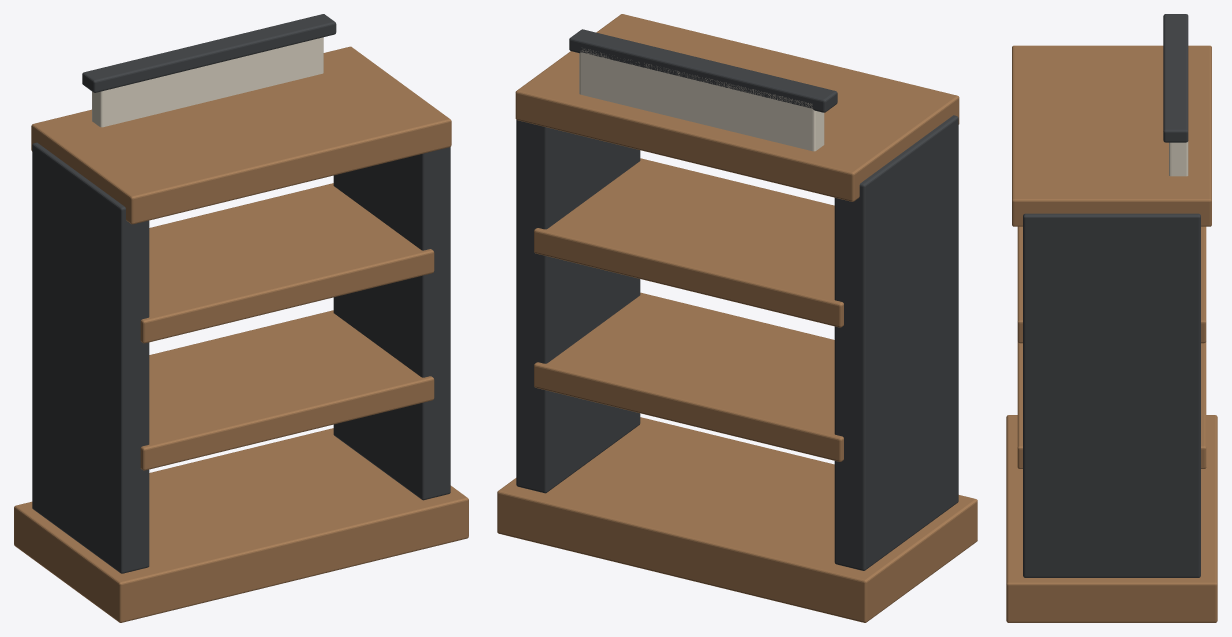
Rendered from retail-counter-display-01.glb.
The picture shows the model from 3 angles, left to right: view 1: azimuth 30°, elevation 25°; view 2: azimuth 150°, elevation 25°; view 3: azimuth 270°, elevation 25°; orthographic projection. The views are drawn at different scales.
Visible parts, largest first — view 1: retail-counter-display-01; view 2: retail-counter-display-01; view 3: retail-counter-display-01.
Boxes of the visible parts, x1=… form: retail-counter-display-01: x1=14, y1=14, x2=468, y2=622; retail-counter-display-01: x1=497, y1=14, x2=977, y2=622; retail-counter-display-01: x1=1006, y1=14, x2=1217, y2=622.
Size of the model in its own units: 0.72 by 0.9275 by 0.38.
